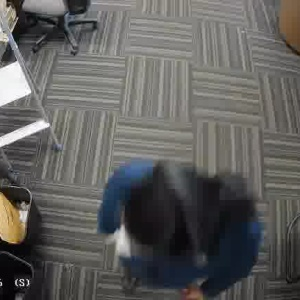person: (111, 158, 245, 294)
